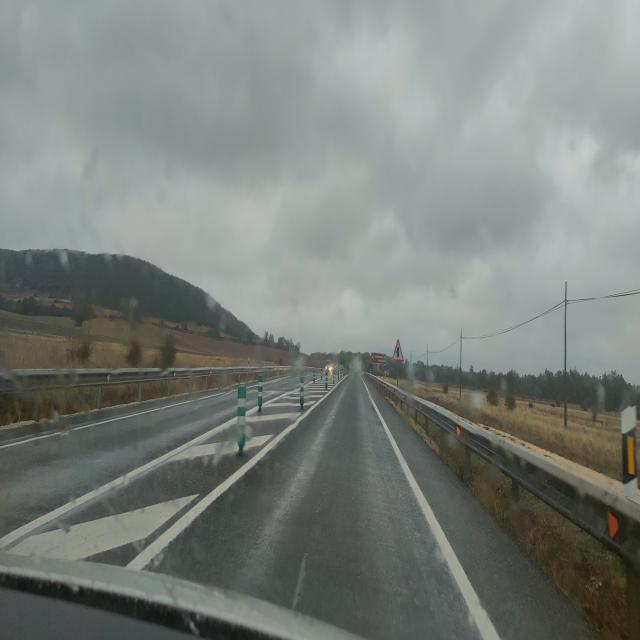Poth-hole: (283, 546, 314, 629)
